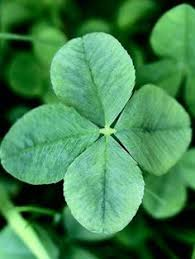4-clover: (7, 35, 190, 237)
